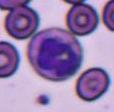N: (27, 28, 83, 80)
